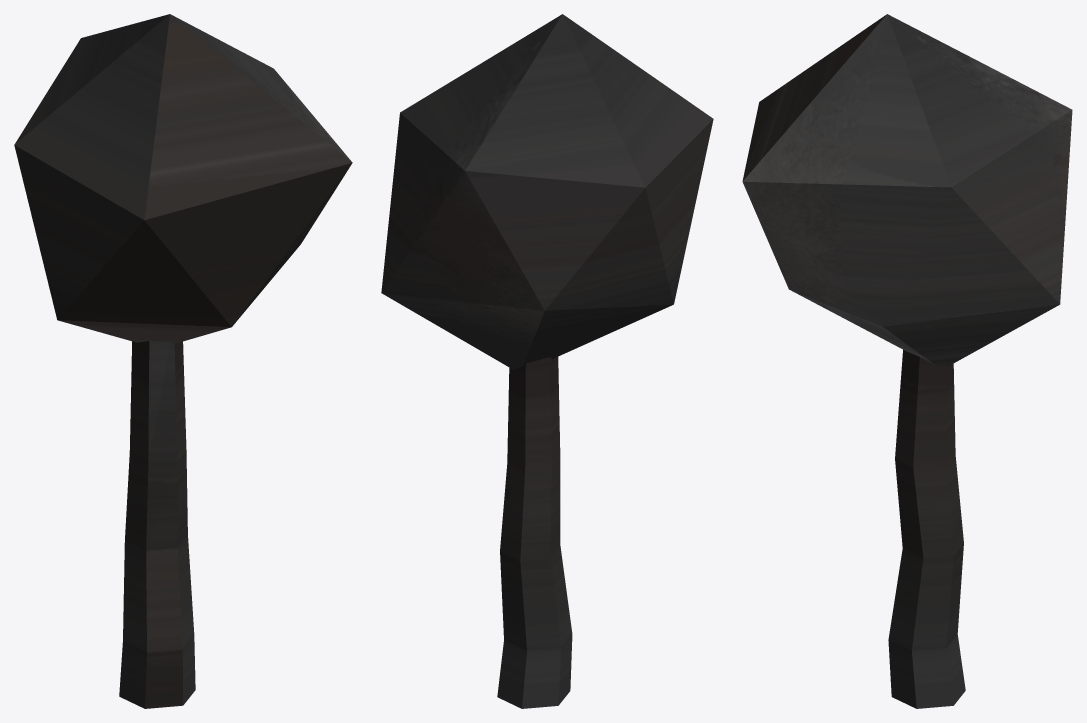
Rendered from lowpoly_tree.fbx.
The picture shows the model from 3 angles, left to right: view 1: azimuth 30°, elevation 25°; view 2: azimuth 150°, elevation 25°; view 3: azimuth 270°, elevation 25°; orthographic projection. The views are drawn at different scales.
Parts seen in each view (by area): view 1: tree_lowpoly:pPlatonic25; view 2: tree_lowpoly:pPlatonic25; view 3: tree_lowpoly:pPlatonic25.
Part boxes in pixels (x1,y1,x2,y2): tree_lowpoly:pPlatonic25: (14, 14, 352, 708); tree_lowpoly:pPlatonic25: (381, 14, 713, 708); tree_lowpoly:pPlatonic25: (742, 14, 1072, 708).
Bounding box in the file's own units: 126 × 326 × 144.
